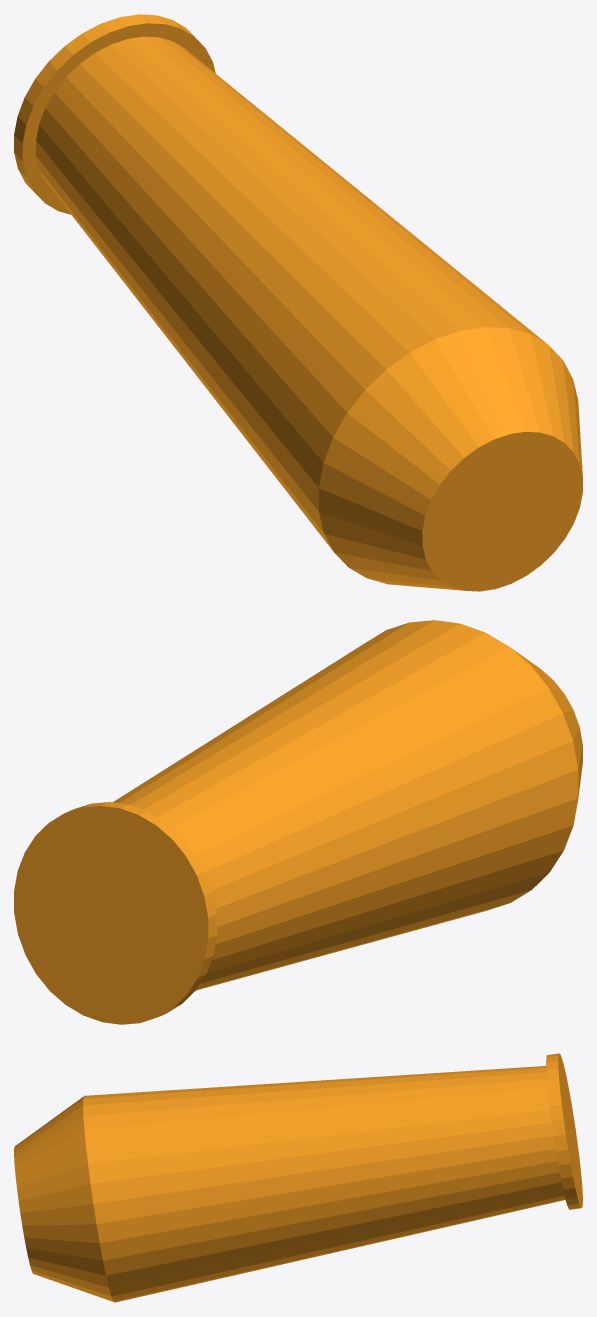
File: loopCannon.obj
3 renders of one model, top to bottom at view 1: azimuth 30°, elevation 25°; view 2: azimuth 150°, elevation 25°; view 3: azimuth 270°, elevation 25°, orthographic. The views are drawn at different scales.
Visible parts, largest first — view 1: Cannon; view 2: Cannon; view 3: Cannon.
Boxes of the visible parts, bbox=[...] form: Cannon: bbox=[14, 14, 582, 591]; Cannon: bbox=[14, 620, 582, 1024]; Cannon: bbox=[14, 1053, 582, 1302].
Bounding box in the file's own units: 0.3196 × 0.3913 × 0.8693.
1 material, 1 textured.
